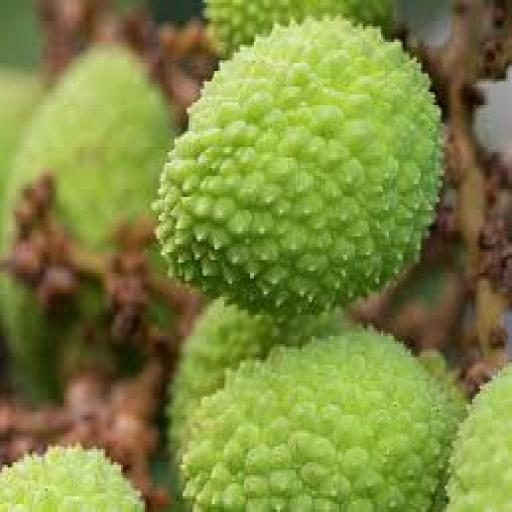lychee: (153, 18, 450, 326), (186, 328, 450, 512), (2, 446, 149, 512)
